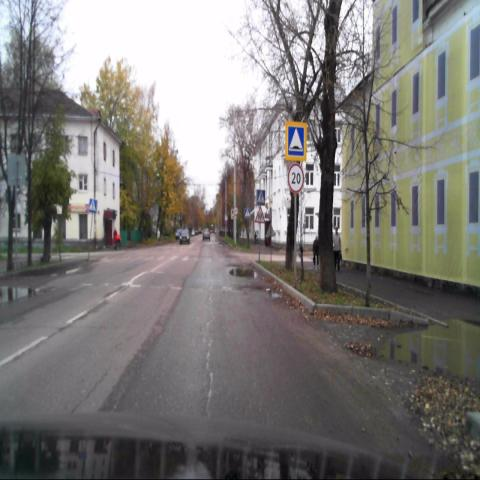1_23: (254, 206, 265, 224)
3_24: (288, 162, 304, 195)
5_19_1: (88, 198, 98, 214), (256, 190, 265, 206)
5_20: (284, 121, 306, 161)
